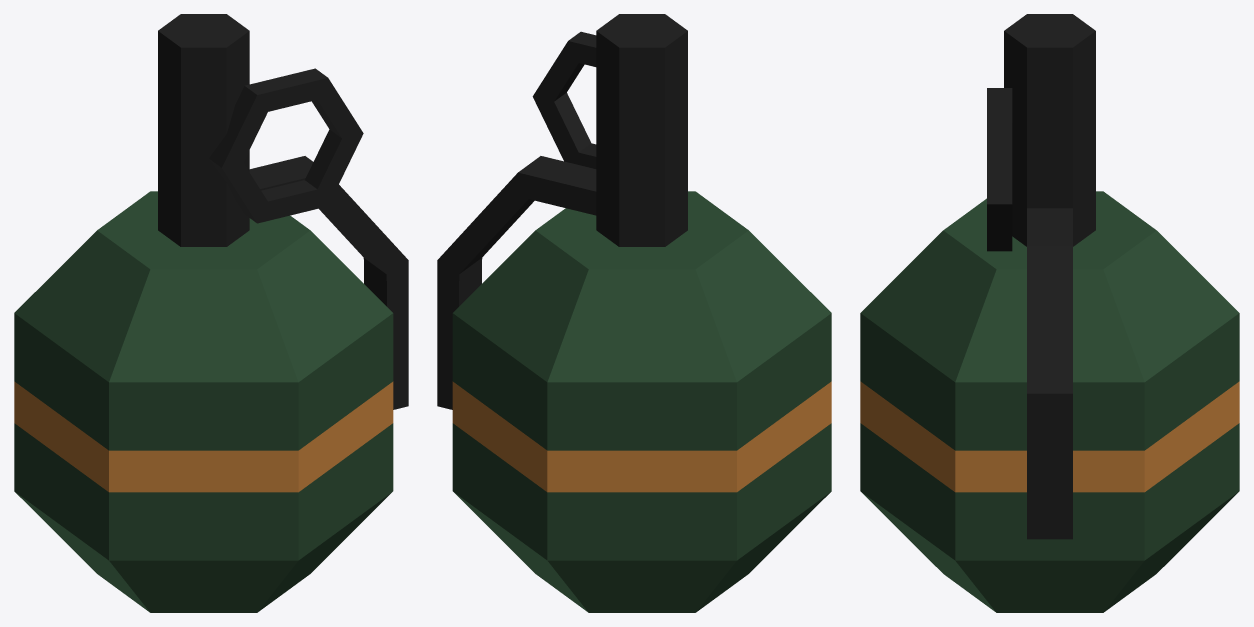
File: grenade_2.fbx
3 renders of one model, left to right at view 1: azimuth 30°, elevation 25°; view 2: azimuth 150°, elevation 25°; view 3: azimuth 270°, elevation 25°, orthographic.
Visible parts, largest first — view 1: body.008, ring.001; view 2: body.008, ring.001; view 3: body.008, ring.001.
Boxes of the visible parts, box(x1,y1,x2,y2) form: body.008: box(14, 14, 408, 612); ring.001: box(209, 68, 363, 223); body.008: box(437, 14, 831, 612); ring.001: box(532, 31, 596, 168); body.008: box(860, 14, 1239, 612); ring.001: box(987, 88, 1012, 251).
Size of the model in its own units: 89.12 by 91.1 by 141.
